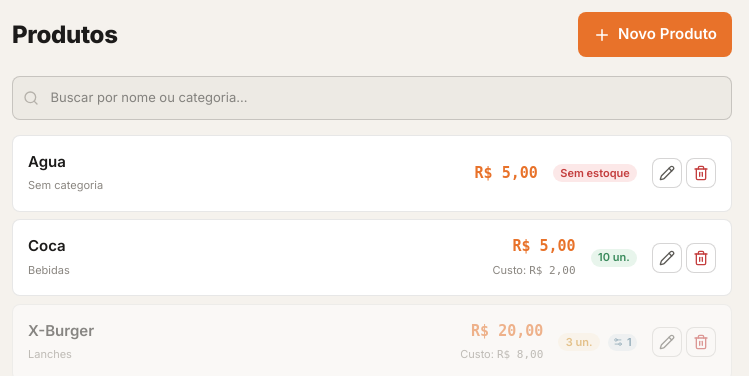
it: ProductsPage › filters by name or category and shows the not-found state
Expected: the text "Coca" is shown, [28,236,66,255]
Step 1. Type "lanch" into the field named "Buscar produtos" → point(372, 98), box [12,76,732,120]
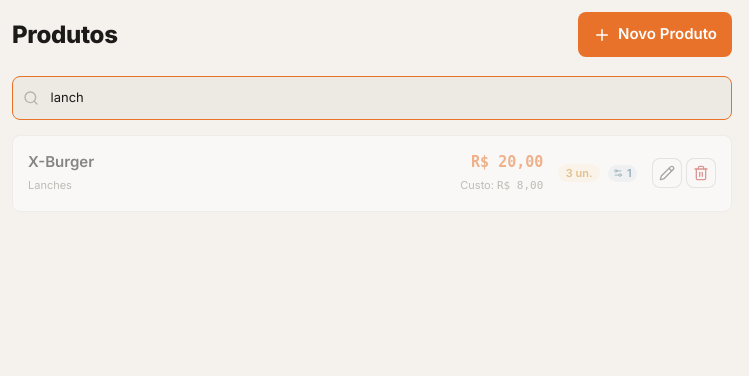
Expected: the text "X-Burger" is shown, [28,152,94,171]
Expected: the text "Coca" is gone
Step 2. Replace the text in the field named "Buscar produtos" with "agu" → point(372, 98), box [12,76,732,120]
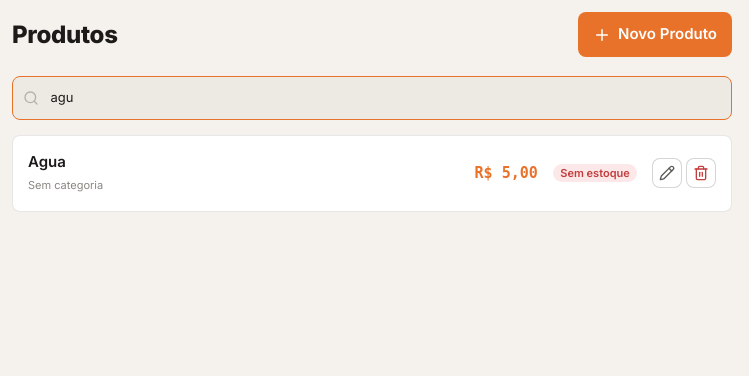
Expected: the text "Agua" is shown, [28,152,66,171]
Step 3. Replace the text in the field named "Buscar produtos" with "zzz" → point(372, 98), box [12,76,732,120]
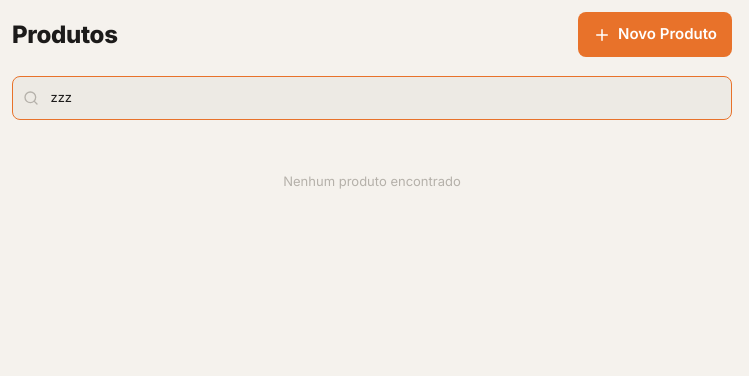
Expected: the text "Nenhum produto encontrado" is shown, [283,173,461,189]
